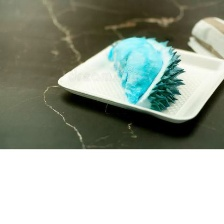foam_box: (53, 32, 223, 127)
